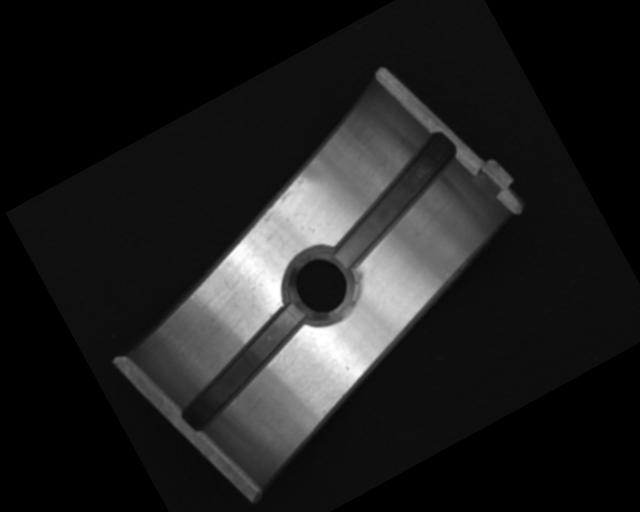gap: (308, 132, 478, 273), (158, 301, 326, 435)
hole: (269, 234, 372, 339)
